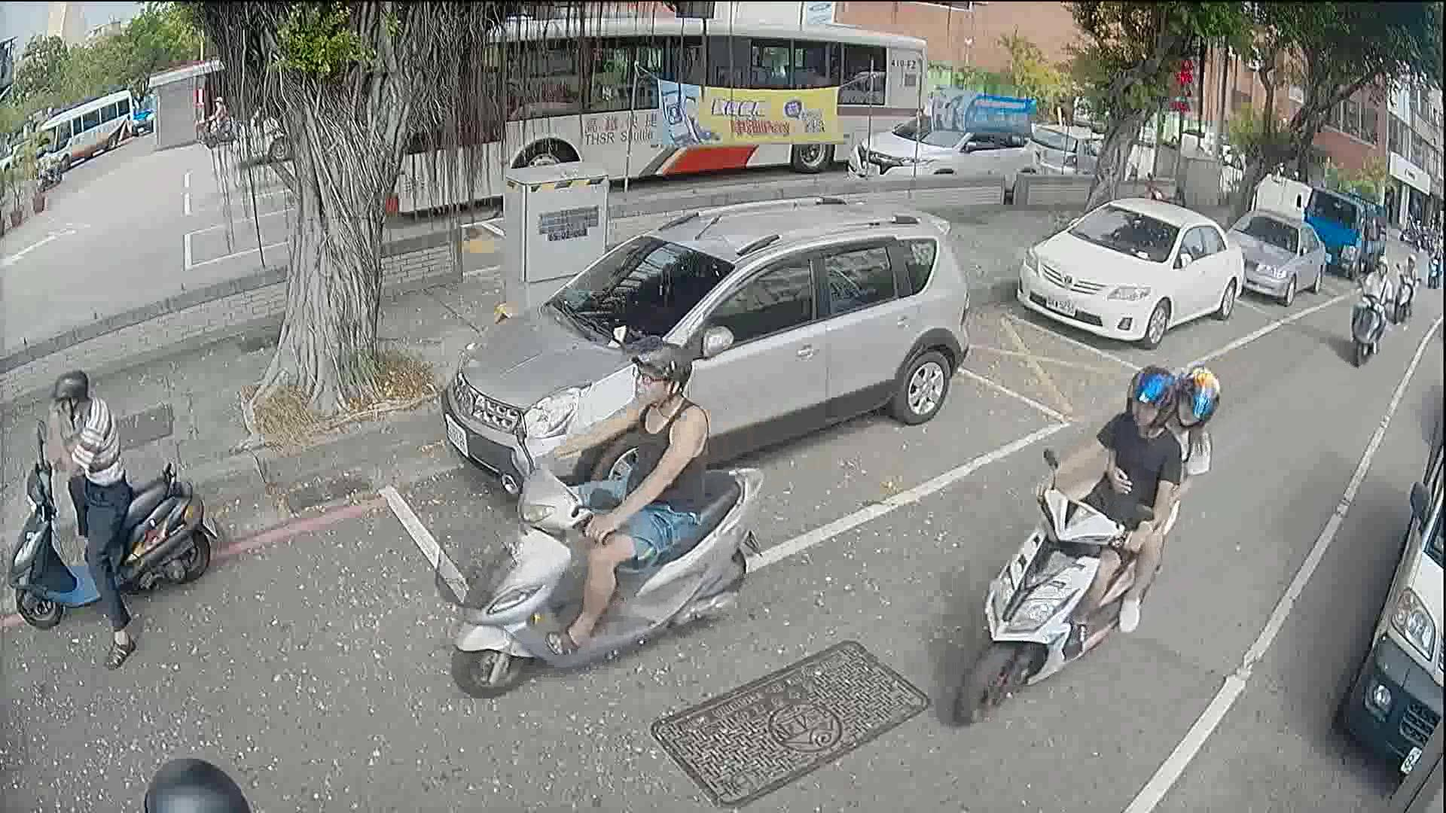person: (517, 330, 719, 661), (1045, 367, 1222, 631), (1036, 359, 1181, 663), (32, 368, 139, 664), (142, 755, 256, 811), (1357, 258, 1393, 350), (201, 92, 227, 135), (1396, 253, 1417, 282), (1426, 236, 1441, 269), (39, 139, 51, 172)
